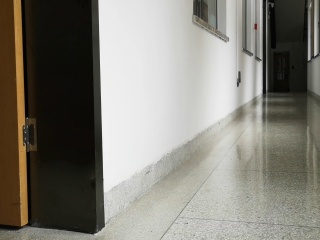room: (1, 3, 106, 238)
